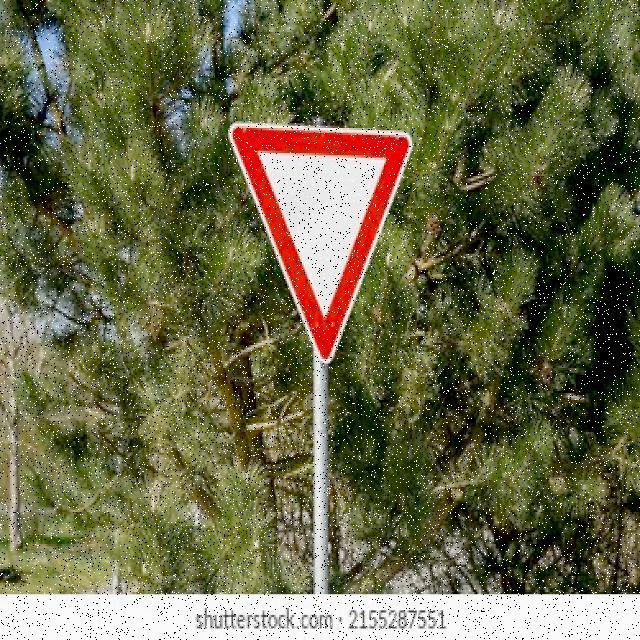Traffic sign: (225, 116, 416, 367)
